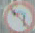Don't turn left: (1, 1, 34, 31)
